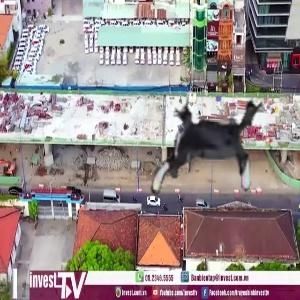drone: (146, 85, 272, 211)
